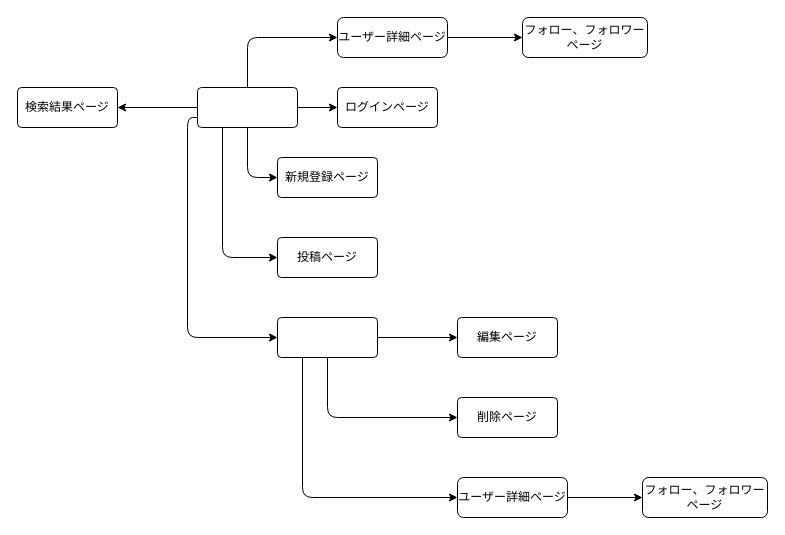
Image size: 785x535. Some labels were removed from this diagram. Here are the shapes that lost their labels. From the top down, the centre of each, then its label:
At [247,107]: "一覧ページ".
At [327,337]: "詳細ページ".
